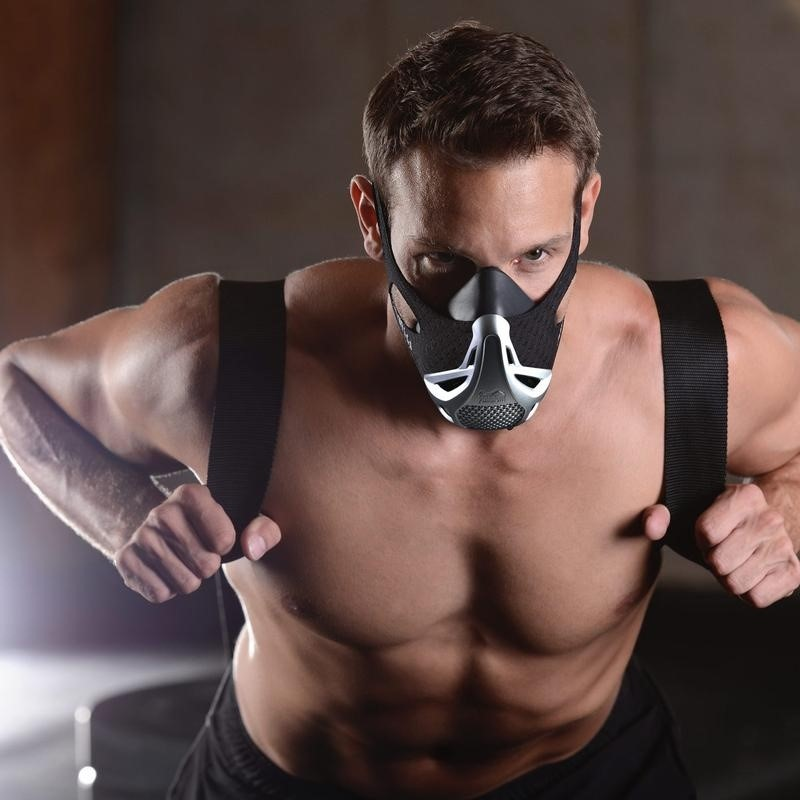face_with_mask: (343, 90, 605, 454)
